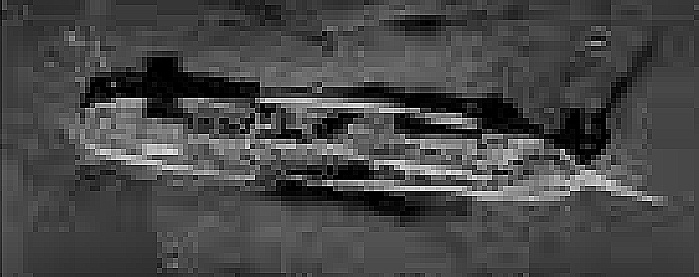ship: (69, 67, 621, 209)
